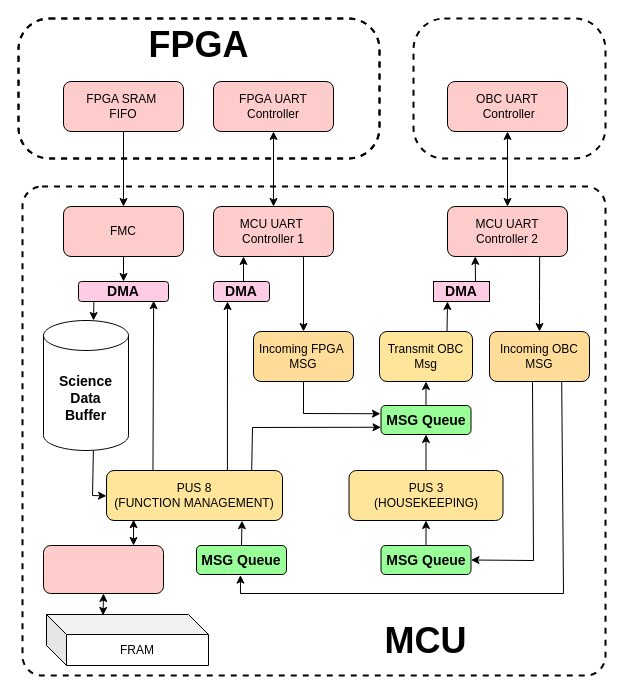
Some shapes in this 623 by 693 pixel diagram are drawn without their labels. The shapes that lost their labels are listed below. From the top down, each one's centre as x and y in pixels, then its label:
At (x=509, y=88): "OBC".
At (x=103, y=569): "MCU FRAM Controller".
